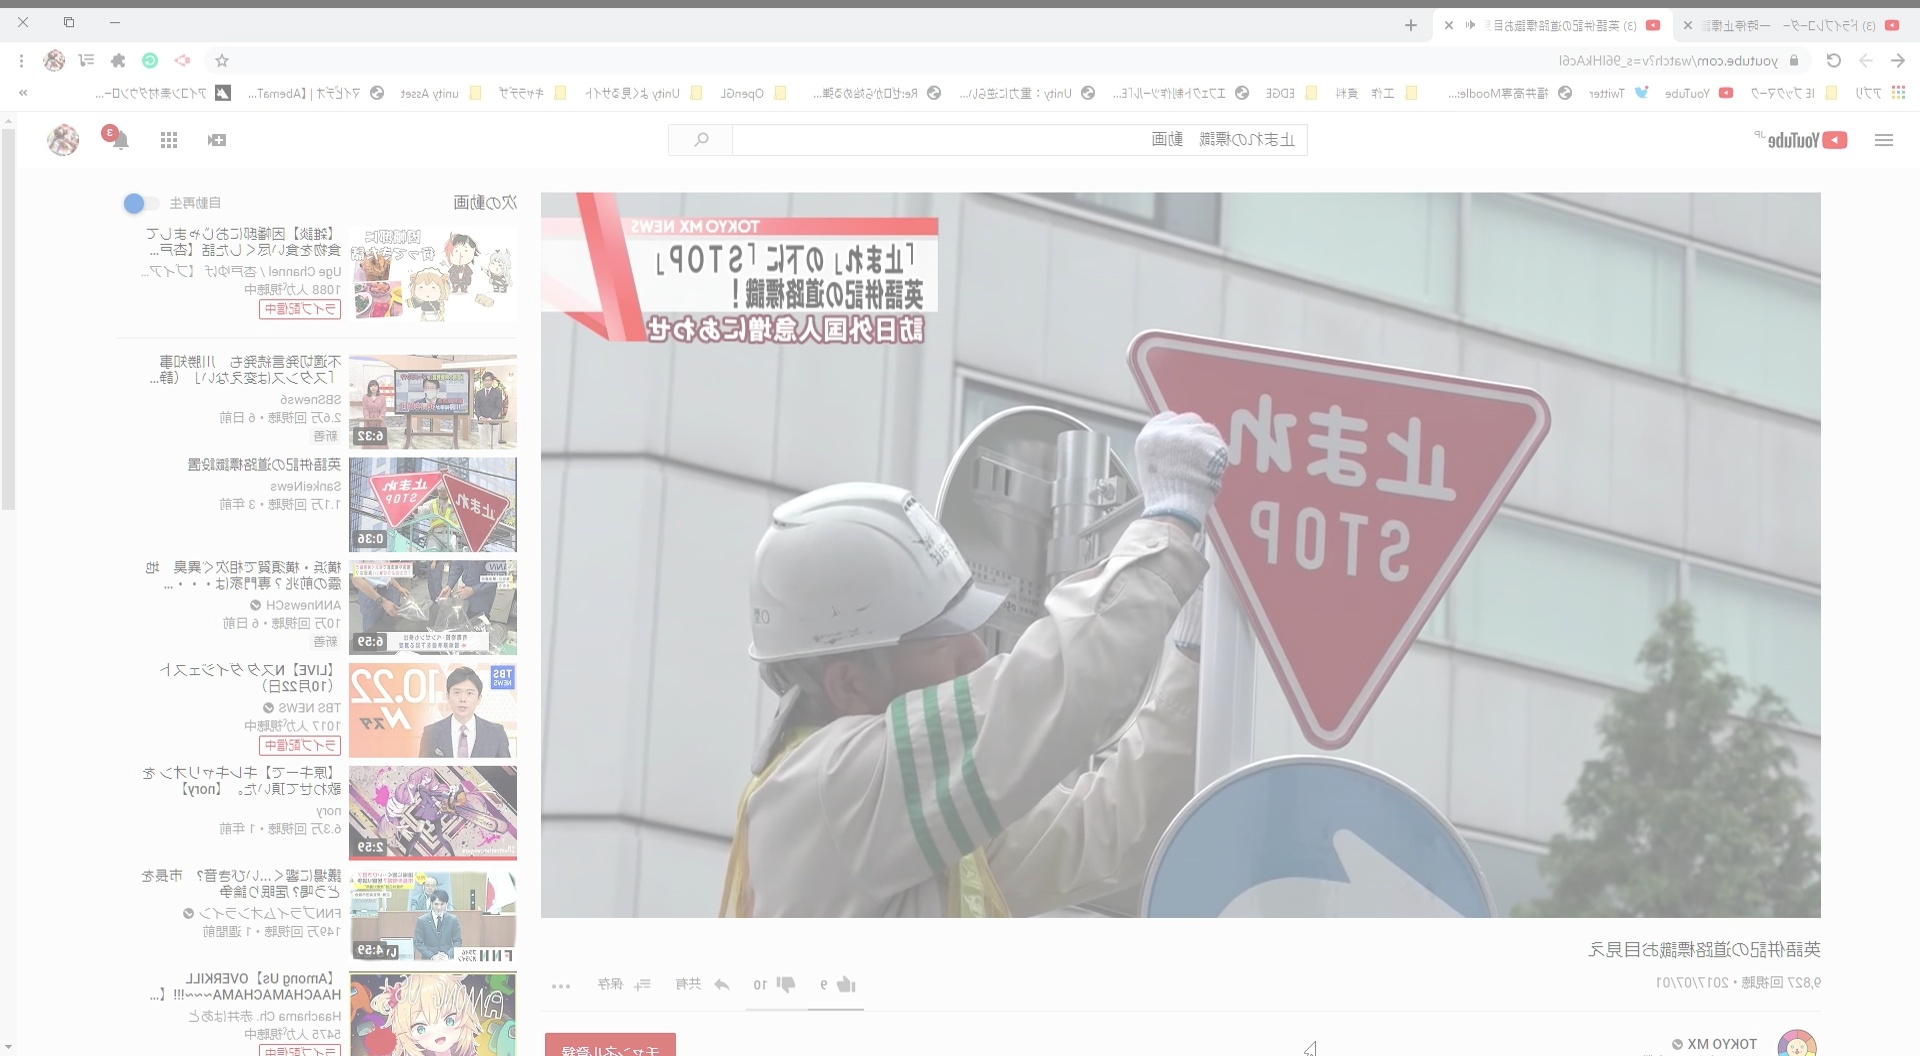Regulatory_sign_triangle: (1121, 319, 1553, 735)
